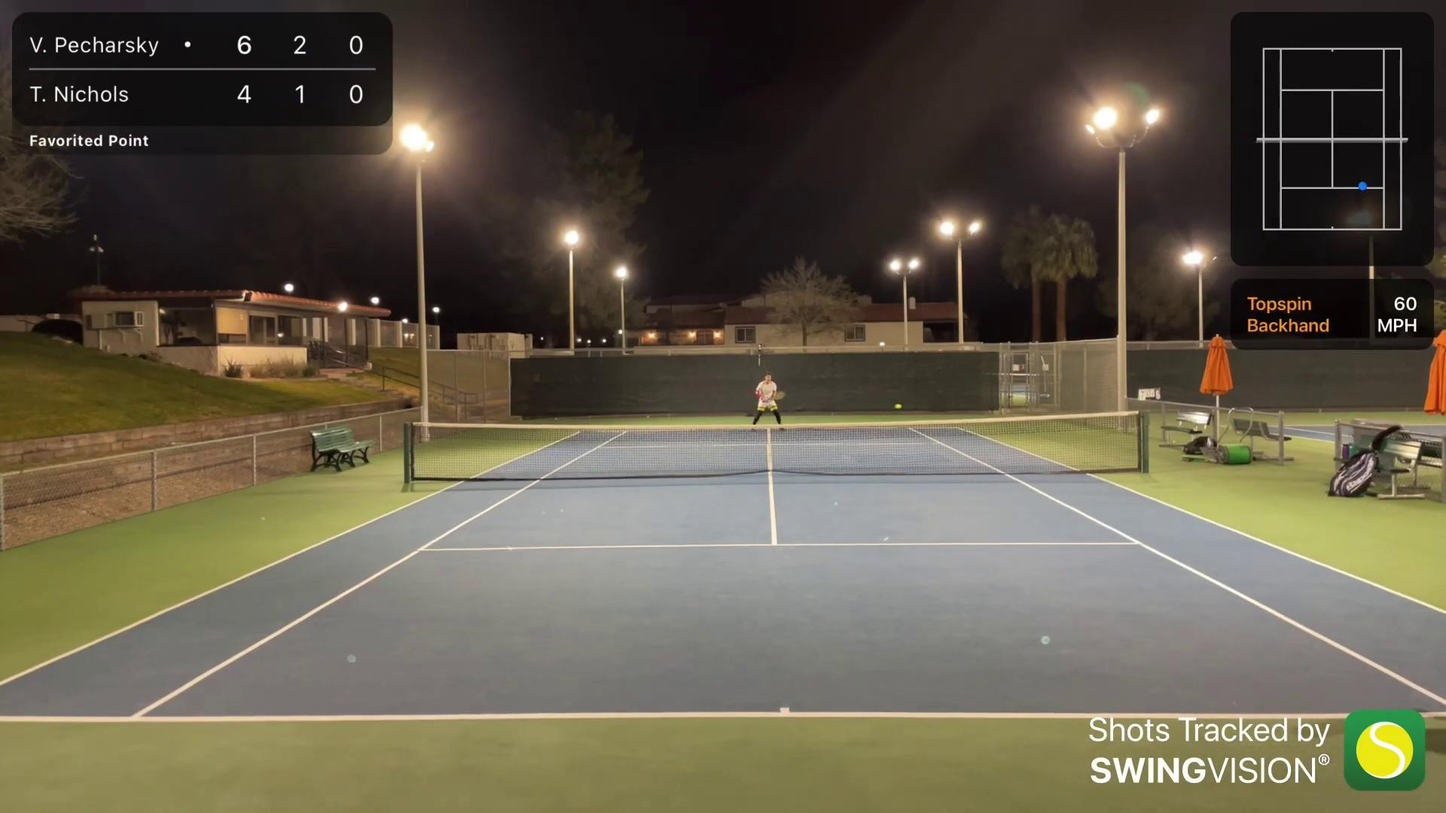ball: (889, 407, 892, 410)
